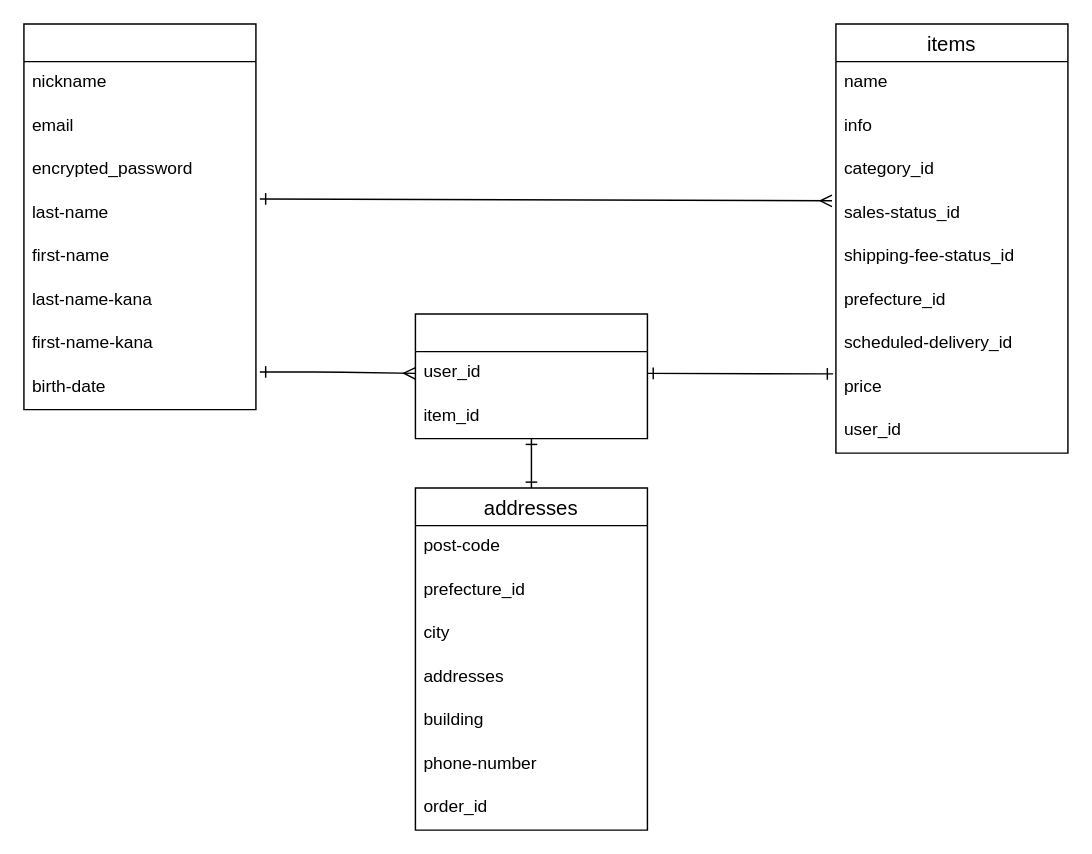
This 1092x854 diagram has some shape labels left out. The shapes that lost their labels are listed below. From the top down, each one's box as (x1, y1, x2, y2) in pixels, then its label:
(22, 22, 256, 410): users
(414, 312, 647, 439): orders
